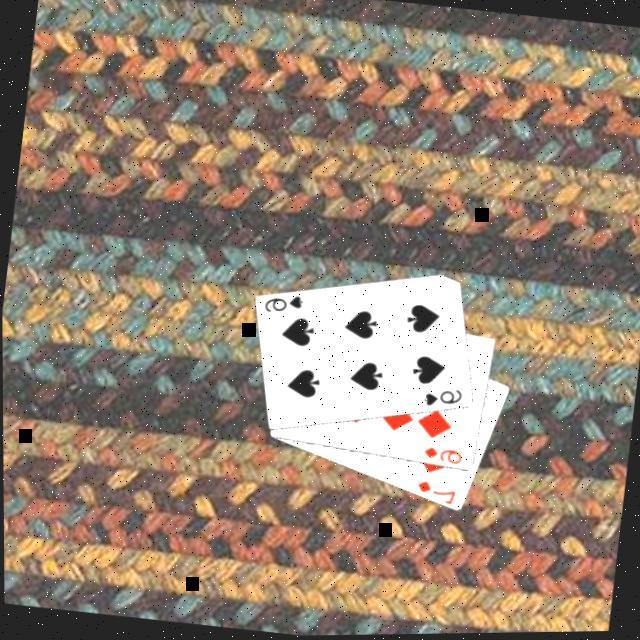6S: (260, 290, 308, 322), (420, 386, 465, 416)
7D: (411, 478, 460, 511)
9D: (420, 445, 466, 471)
